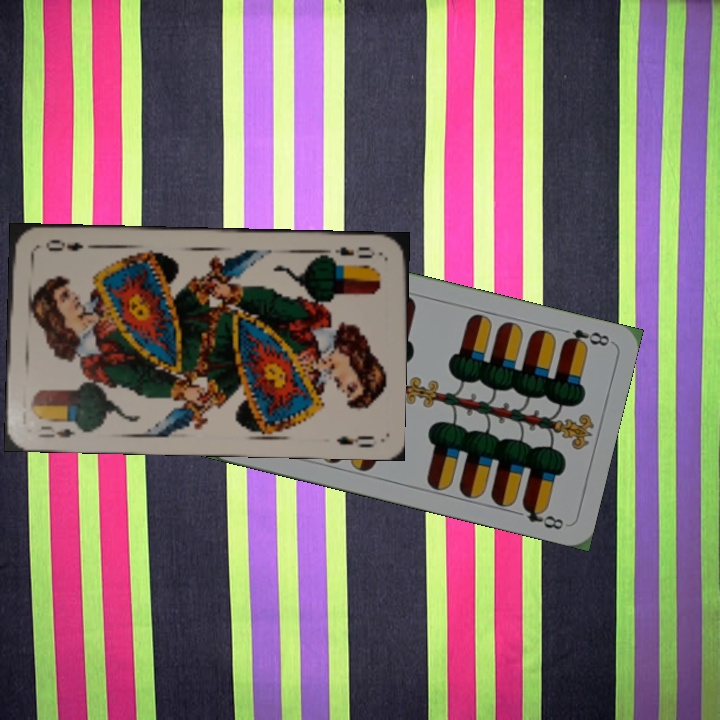E8: (560, 325, 612, 351)
EO: (324, 242, 378, 265), (34, 422, 78, 441)
